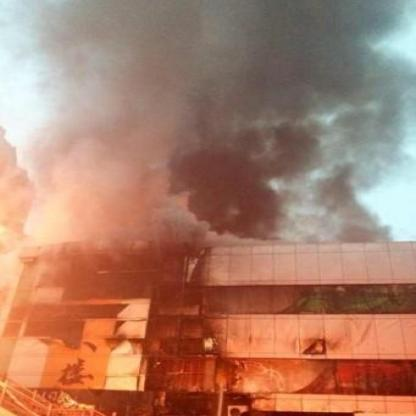smoke: (31, 8, 373, 227)
